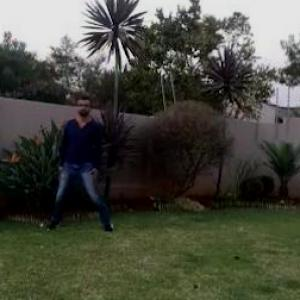follow: (61, 86, 102, 227)
